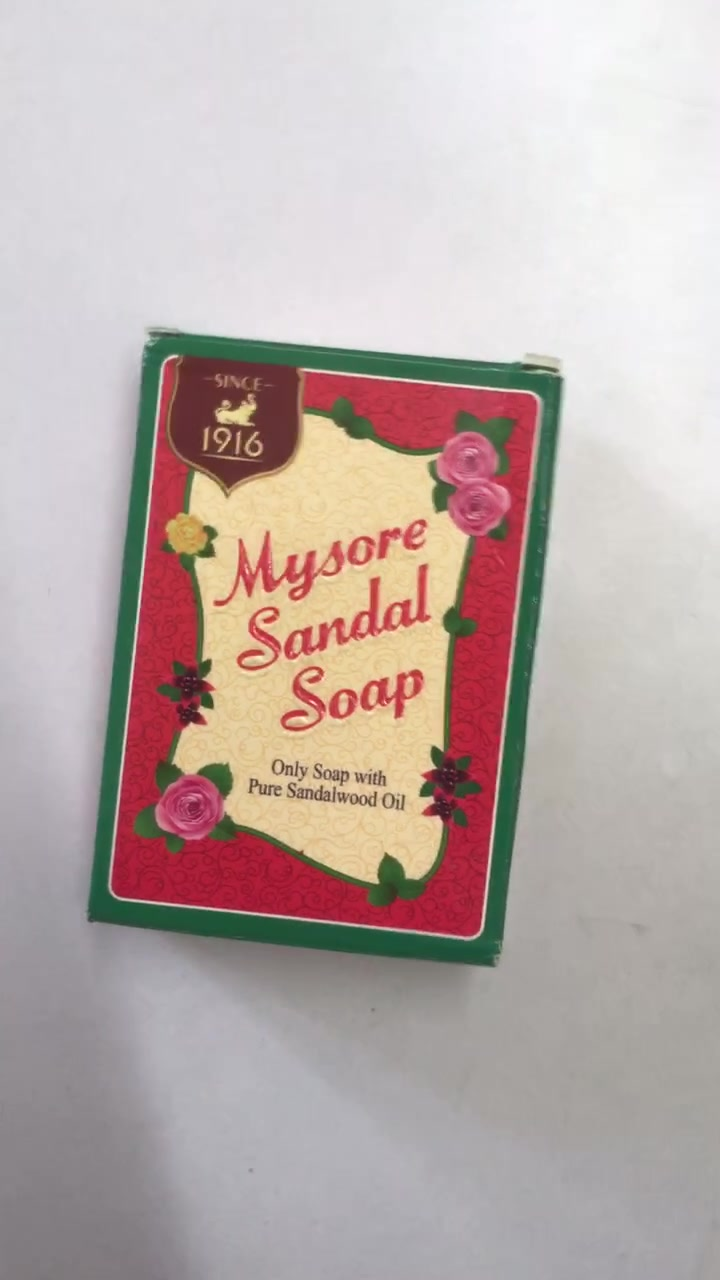mysore sandal soap: (80, 337, 563, 966)
